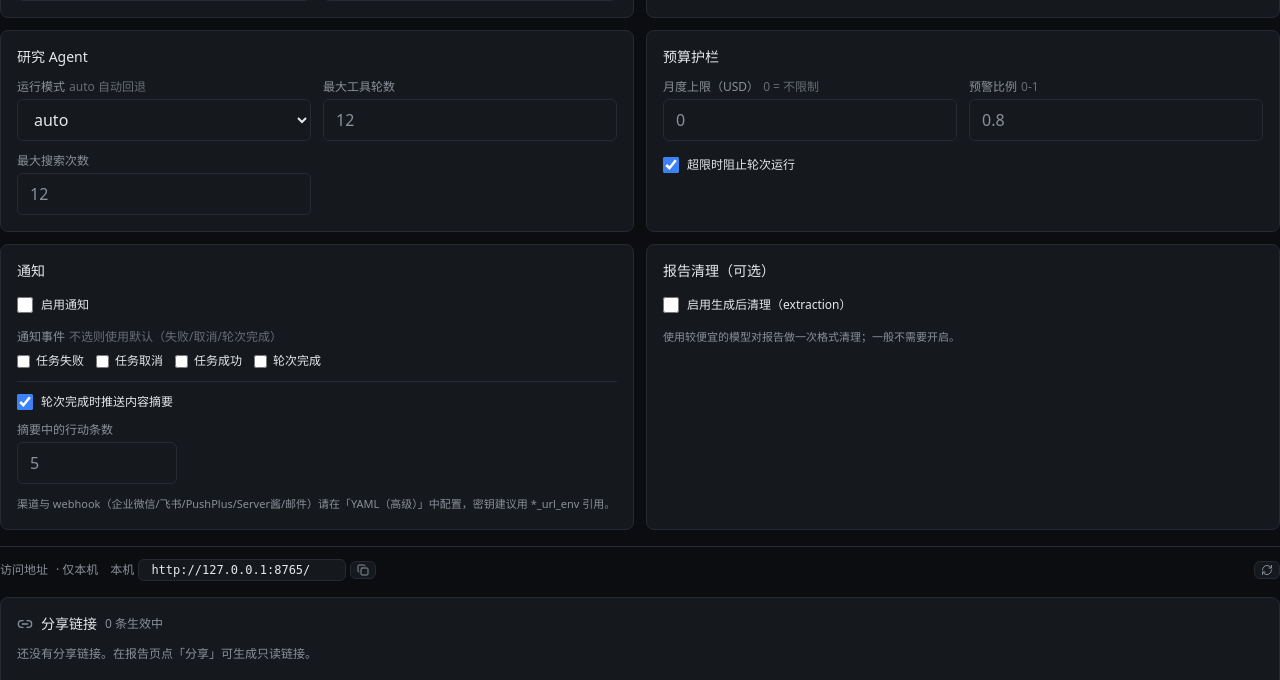
it: Settings access card › warns that LAN access is cleartext HTTP once expanded
The width and height of the screenshot is (1280, 680).
(page scrolled)
Expected: the field showing "http://127.0.0.1:8765/" is shown, [138, 558, 346, 580]
Click the text "访问地址".
click(24, 570)  # box [0, 562, 48, 578]
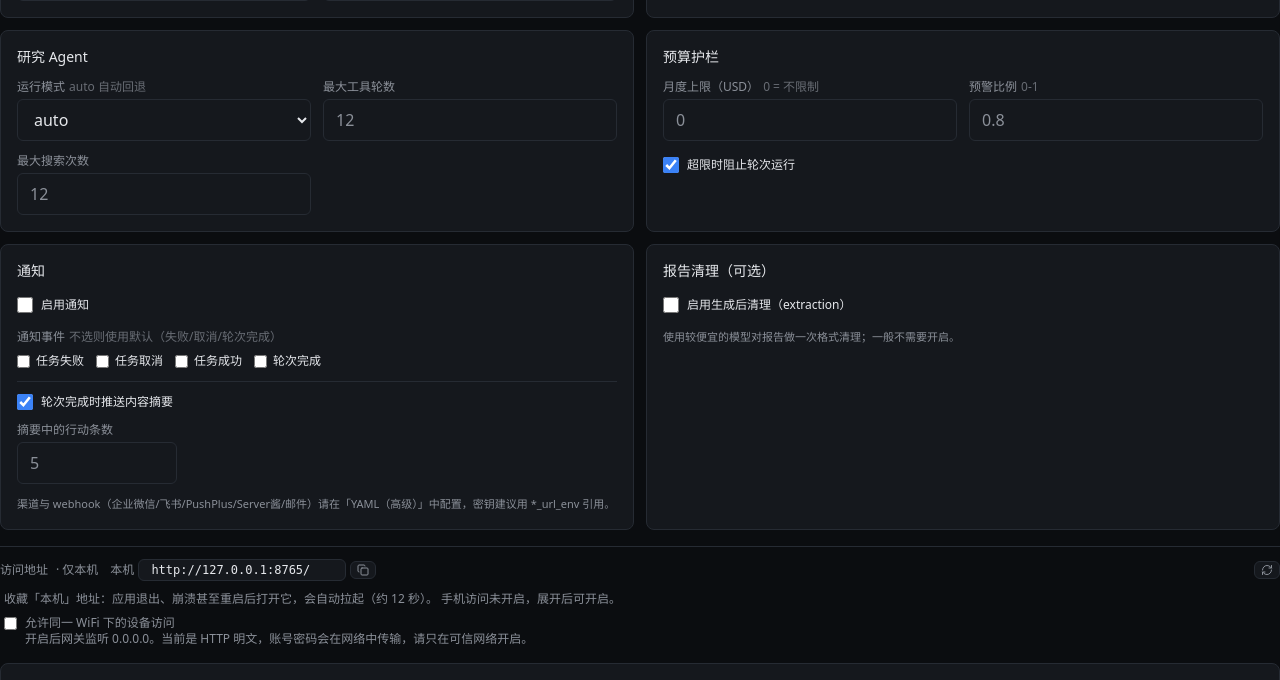
Expected: the text "开启后网关监听 0.0.0.0。当前是 HTTP 明文，账号密码会在网络中传输，请只在可信网络开启。" is shown, [25, 630, 533, 646]
